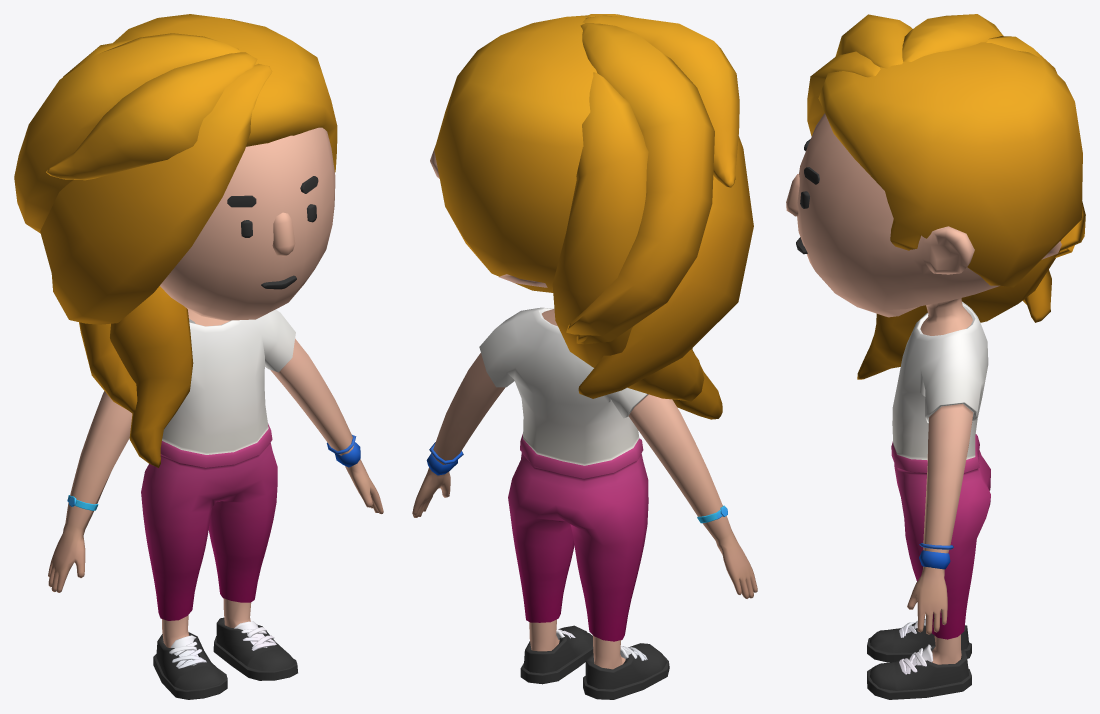
File: girl_03.fbx
3 views of the same model, side by side, from view 1: azimuth 30°, elevation 25°; view 2: azimuth 150°, elevation 25°; view 3: azimuth 270°, elevation 25° (orthographic). The views are drawn at different scales.
Visible parts, largest first — view 1: Girl_3; view 2: Girl_3; view 3: Girl_3.
Part boxes in pixels (x1,y1,x2,y2): Girl_3: (14,14,383,699); Girl_3: (412,14,757,699); Girl_3: (786,14,1085,699).
Size of the model in its own units: 3.14 by 5.82 by 2.52.
